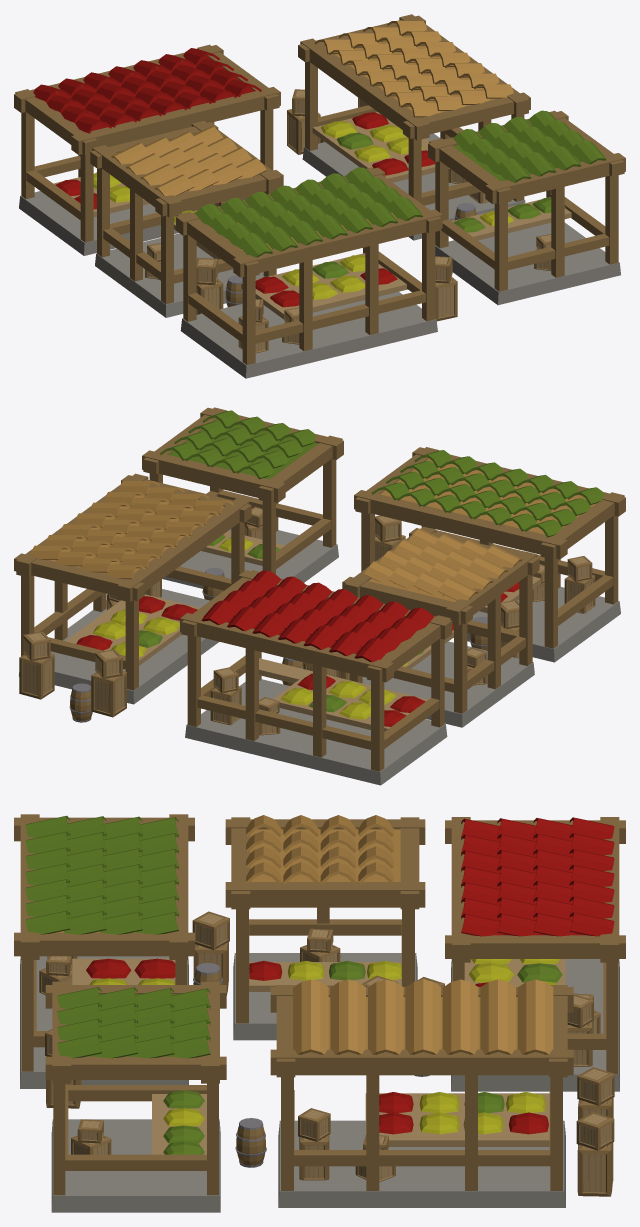
File: tea_stall.glb
3 renders of one model, top to bottom at view 1: azimuth 30°, elevation 25°; view 2: azimuth 150°, elevation 25°; view 3: azimuth 270°, elevation 25°, orthographic. The views are drawn at different scales.
Parts seen in each view (by area): view 1: Market_SecondAge_Level3; view 2: Market_SecondAge_Level3; view 3: Market_SecondAge_Level3.
Boxes of the visible parts, <box> form: Market_SecondAge_Level3: <box>14,14,625,378</box>; Market_SecondAge_Level3: <box>14,407,625,785</box>; Market_SecondAge_Level3: <box>14,814,625,1212</box>.
Size of the model in its own units: 1.93 by 0.6571 by 1.99.
Materials: 1 (1 with a texture image).
